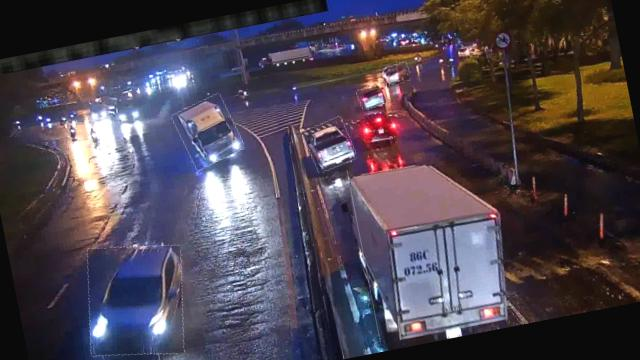Car: (75, 235, 196, 360), (302, 116, 357, 173), (356, 82, 392, 110), (384, 61, 412, 86)
Truck: (346, 142, 514, 342), (172, 93, 245, 170)
